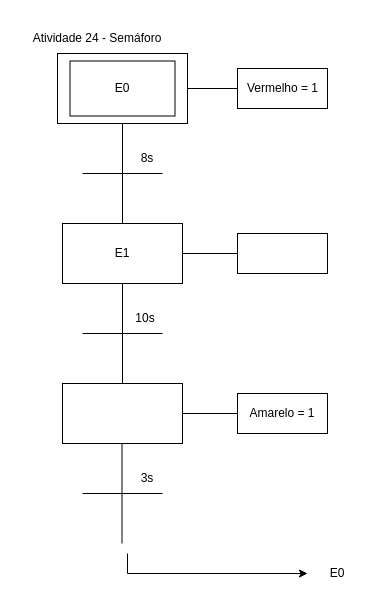
Image size: 384x606. Some labels were removed from this diagram. Here are the shapes that lost their labels. From the top down, the centre of each, then its label:
point (282, 253): Verde = 1
point (122, 413): E2
